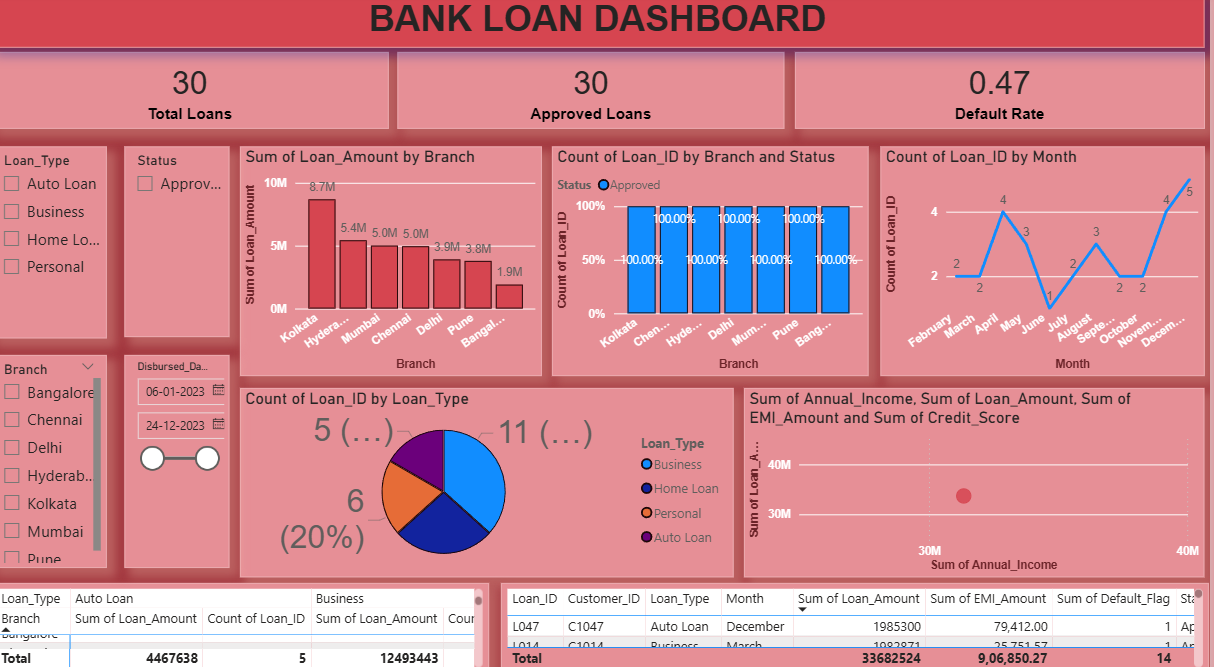

The page's visual inventory and layout, read from the dashboard file:
{"tool":"powerbi","page":{"name":"Page 1","canvas":[1280,720],"ordinal":0},"visuals":[{"type":"card","fields":{"Values":["bank_loan_dataset_clean.Total Loans"]},"box":[9.4,62.6,414.5,79.8],"z":0},{"type":"card","fields":{"Values":["bank_loan_dataset_clean.Approved Loans"]},"box":[433.3,62.6,403.6,79.8],"z":1000},{"type":"card","fields":{"Values":["bank_loan_dataset_clean.Default Rate"]},"box":[847.8,62.6,427,79.8],"z":2000},{"type":"clusteredColumnChart","fields":{"Category":["bank_loan_dataset_clean.Branch"],"Y":["Sum(bank_loan_dataset_clean.Loan_Amount)"]},"box":[269,161.1,314.4,228.4],"z":3000},{"type":"hundredPercentStackedColumnChart","fields":{"Category":["bank_loan_dataset_clean.Branch"],"Y":["CountNonNull(bank_loan_dataset_clean.Loan_ID)"],"Series":["bank_loan_dataset_clean.Status"]},"box":[594.4,161.1,330,228.4],"z":4000},{"type":"lineChart","fields":{"Category":["bank_loan_dataset_clean.Disbursed_Date.Variation.Date Hierarchy.Month"],"Y":["CountNonNull(bank_loan_dataset_clean.Loan_ID)"]},"box":[936.9,161.1,337.9,228.4],"z":5000},{"type":"actionButton","box":[0,0,100.1,40.7],"z":6000},{"type":"pieChart","fields":{"Category":["bank_loan_dataset_clean.Loan_Type"],"Y":["CountNonNull(bank_loan_dataset_clean.Loan_ID)"]},"box":[269,400.4,514.6,209.6],"z":7000},{"type":"scatterChart","fields":{"X":["Sum(bank_loan_dataset_clean.Annual_Income)"],"Y":["Sum(bank_loan_dataset_clean.Loan_Amount)"],"Size":["Sum(bank_loan_dataset_clean.EMI_Amount)"]},"box":[794.6,400.4,480.2,209.6],"z":8000},{"type":"pivotTable","fields":{"Rows":["bank_loan_dataset_clean.Branch"],"Columns":["bank_loan_dataset_clean.Loan_Type"],"Values":["Sum(bank_loan_dataset_clean.Loan_Amount)","CountNonNull(bank_loan_dataset_clean.Loan_ID)"]},"box":[9.4,616.3,519.3,103.2],"z":9000},{"type":"slicer","fields":{"Values":["bank_loan_dataset_clean.Loan_Type"]},"box":[9.4,161.1,120.4,200.2],"z":10000},{"type":"slicer","fields":{"Values":["bank_loan_dataset_clean.Branch"]},"box":[9.4,378.5,120.4,222.1],"z":11000},{"type":"slicer","fields":{"Values":["bank_loan_dataset_clean.Status"]},"box":[148.6,161.1,109.5,198.6],"z":12000},{"type":"slicer","fields":{"Values":["bank_loan_dataset_clean.Disbursed_Date"]},"box":[148.6,378.5,109.5,222.1],"z":13000},{"type":"textbox","box":[9.4,0,1265.4,57.9],"z":14000},{"type":"tableEx","fields":{"Values":["bank_loan_dataset_clean.Loan_ID","bank_loan_dataset_clean.Customer_ID","bank_loan_dataset_clean.Loan_Type","bank_loan_dataset_clean.Disbursed_Date.Variation.Date Hierarchy.Month","Sum(bank_loan_dataset_clean.Loan_Amount)","Sum(bank_loan_dataset_clean.EMI_Amount)","Sum(bank_loan_dataset_clean.Default_Flag)","bank_loan_dataset_clean.Status"]},"box":[541.2,616.3,738.3,103.2],"z":15000}]}

Visuals, with their boxes in screenshot pixels (x1, y1, x2, y2), scaled from the page's 1280x720 canvas onto the 1214x667 screenshot:
card - bank_loan_dataset_clean.Total Loans: bbox=(9, 58, 402, 132)
card - bank_loan_dataset_clean.Approved Loans: bbox=(411, 58, 794, 132)
card - bank_loan_dataset_clean.Default Rate: bbox=(804, 58, 1209, 132)
clusteredColumnChart - bank_loan_dataset_clean.Branch x Sum(bank_loan_dataset_clean.Loan_Amount): bbox=(255, 149, 553, 361)
hundredPercentStackedColumnChart - bank_loan_dataset_clean.Branch x CountNonNull(bank_loan_dataset_clean.Loan_ID): bbox=(564, 149, 877, 361)
lineChart - bank_loan_dataset_clean.Disbursed_Date.Variation.Date Hierarchy.Month x CountNonNull(bank_loan_dataset_clean.Loan_ID): bbox=(889, 149, 1209, 361)
actionButton: bbox=(0, 0, 95, 38)
pieChart - bank_loan_dataset_clean.Loan_Type x CountNonNull(bank_loan_dataset_clean.Loan_ID): bbox=(255, 371, 743, 565)
scatterChart - Sum(bank_loan_dataset_clean.Annual_Income) x Sum(bank_loan_dataset_clean.Loan_Amount): bbox=(754, 371, 1209, 565)
pivotTable - bank_loan_dataset_clean.Branch x bank_loan_dataset_clean.Loan_Type: bbox=(9, 571, 501, 666)
slicer - bank_loan_dataset_clean.Loan_Type: bbox=(9, 149, 123, 335)
slicer - bank_loan_dataset_clean.Branch: bbox=(9, 351, 123, 556)
slicer - bank_loan_dataset_clean.Status: bbox=(141, 149, 245, 333)
slicer - bank_loan_dataset_clean.Disbursed_Date: bbox=(141, 351, 245, 556)
textbox: bbox=(9, 0, 1209, 54)
tableEx - bank_loan_dataset_clean.Loan_ID x bank_loan_dataset_clean.Customer_ID: bbox=(513, 571, 1213, 666)
